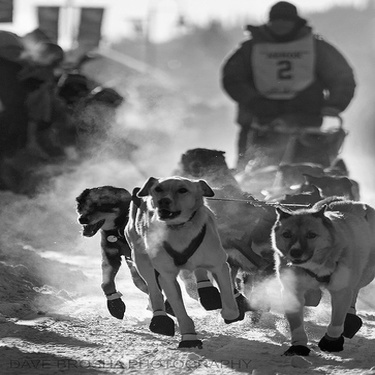dog: (119, 177, 241, 350), (266, 194, 372, 354), (66, 179, 159, 317), (159, 138, 251, 273), (259, 170, 366, 200), (272, 164, 346, 180)
